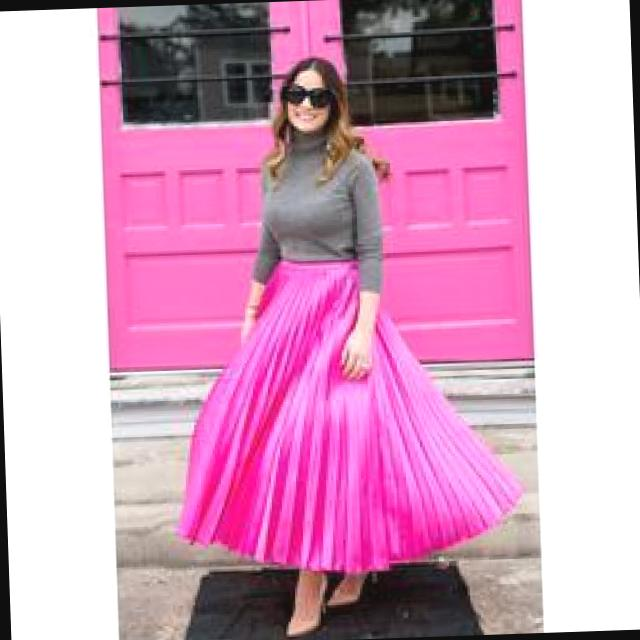skirt: (166, 253, 529, 580)
sweater: (248, 128, 384, 297)
